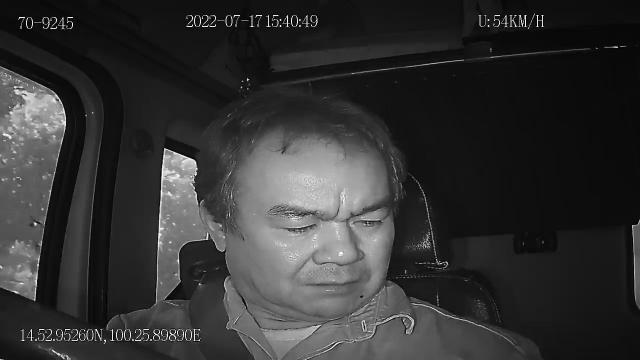SafeDriving: (262, 204, 326, 236)
Seatbelt: (186, 270, 258, 360)
